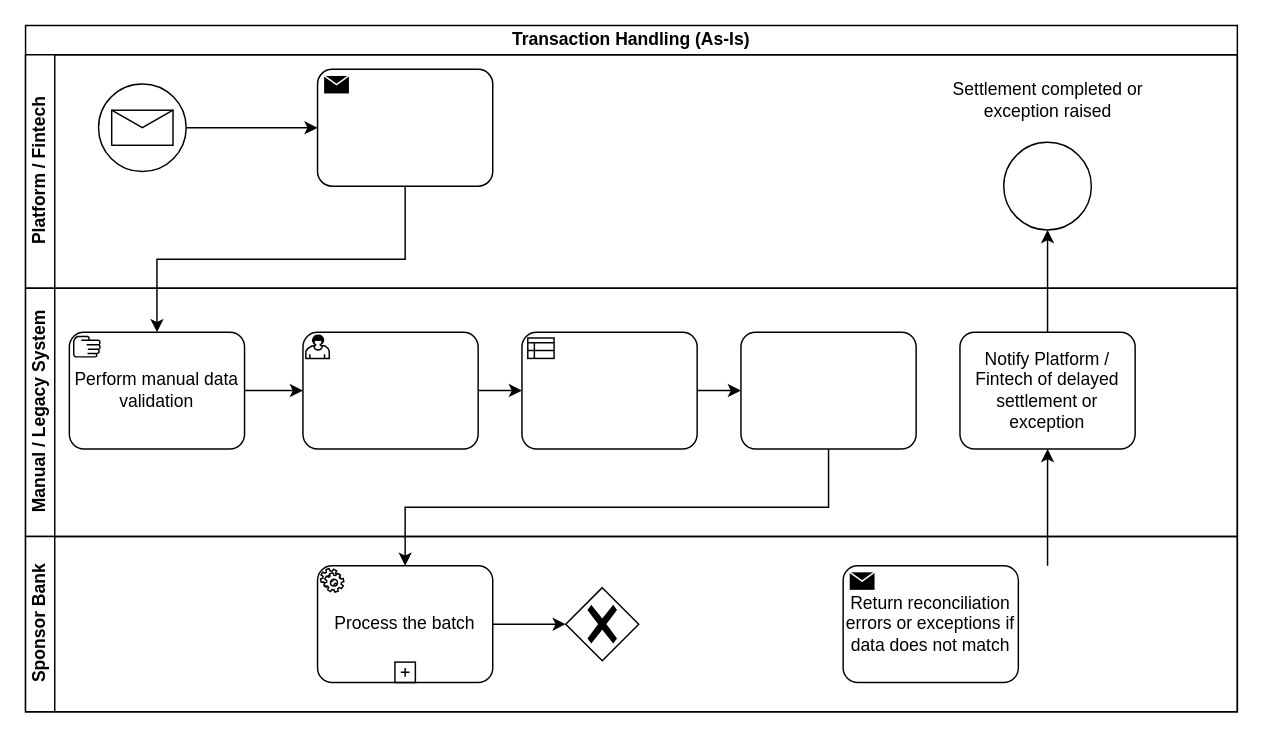
Some shapes in this 1263 by 737 pixel diagram are drawn without their labels. Each missing label, with the centre of its shape:
"Check for data issues and float errors" goes at (608,390).
"Record the entry in spreadsheet or legacy DB" goes at (389,390).
"Send batch file upload to Sponsor Bank at end of day" goes at (827,390).
"Send unstructured payment intent" goes at (404,127).
"User or API submits transaction intent" goes at (141,127).
